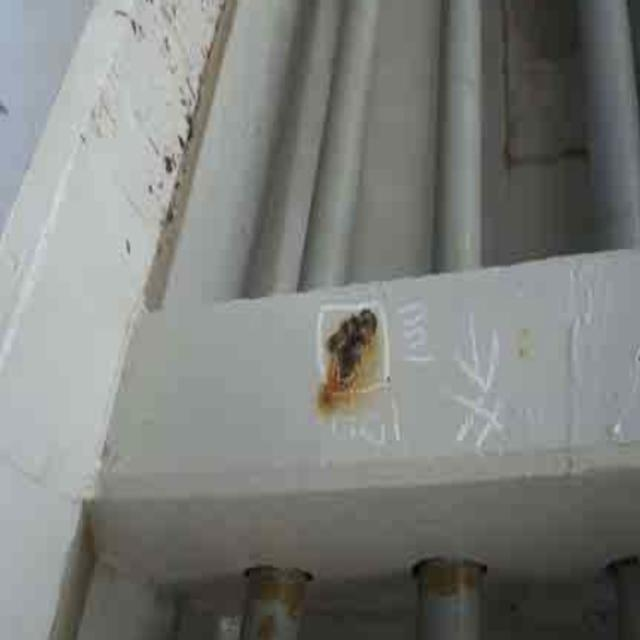corrosion: (234, 555, 319, 640), (311, 313, 390, 400), (403, 534, 493, 606)
